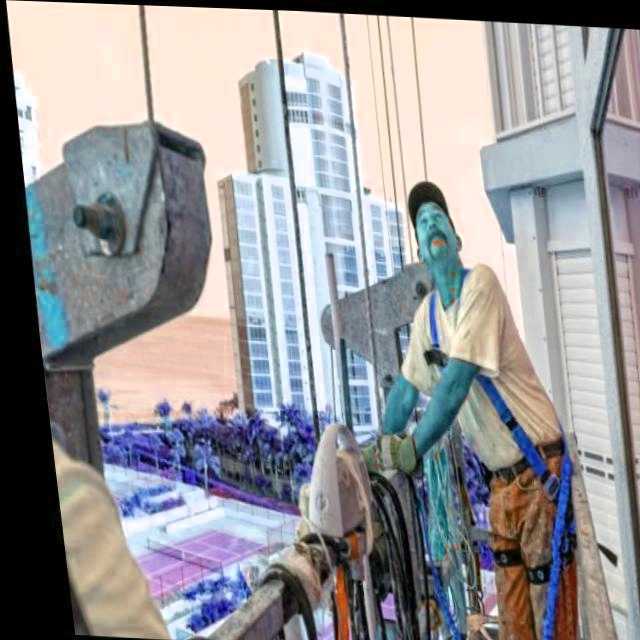safety belt: (362, 272, 591, 579)
